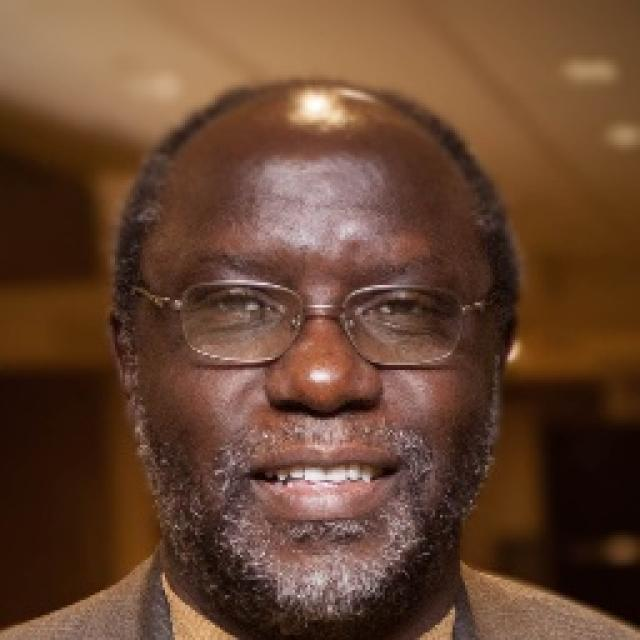eye: (197, 288, 279, 328), (366, 291, 441, 329)
nose: (265, 399, 384, 442)
wholeear: (108, 306, 137, 412)
